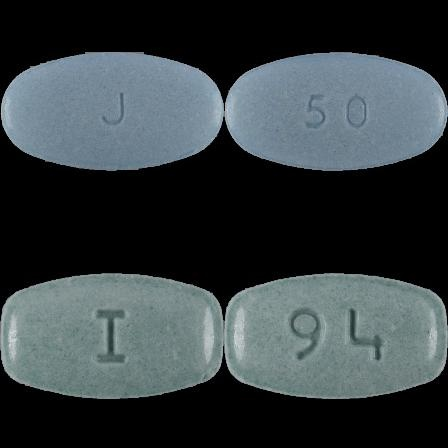31722-778: (0, 0, 224, 224)
